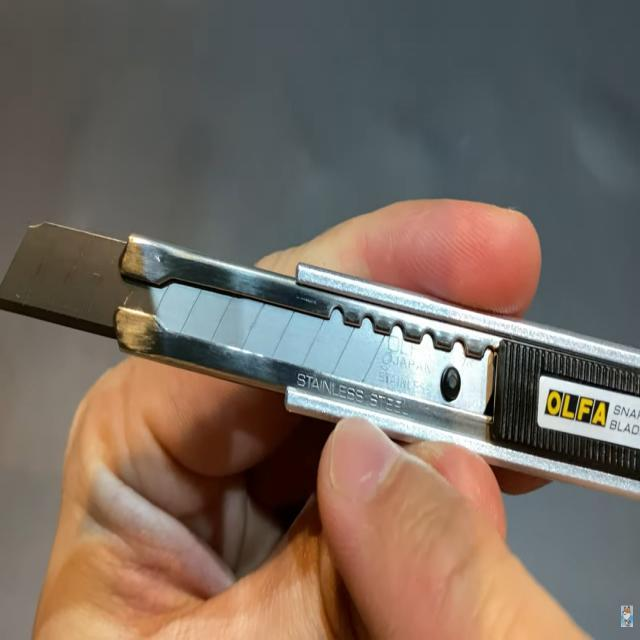cutter: (1, 83, 640, 545)
